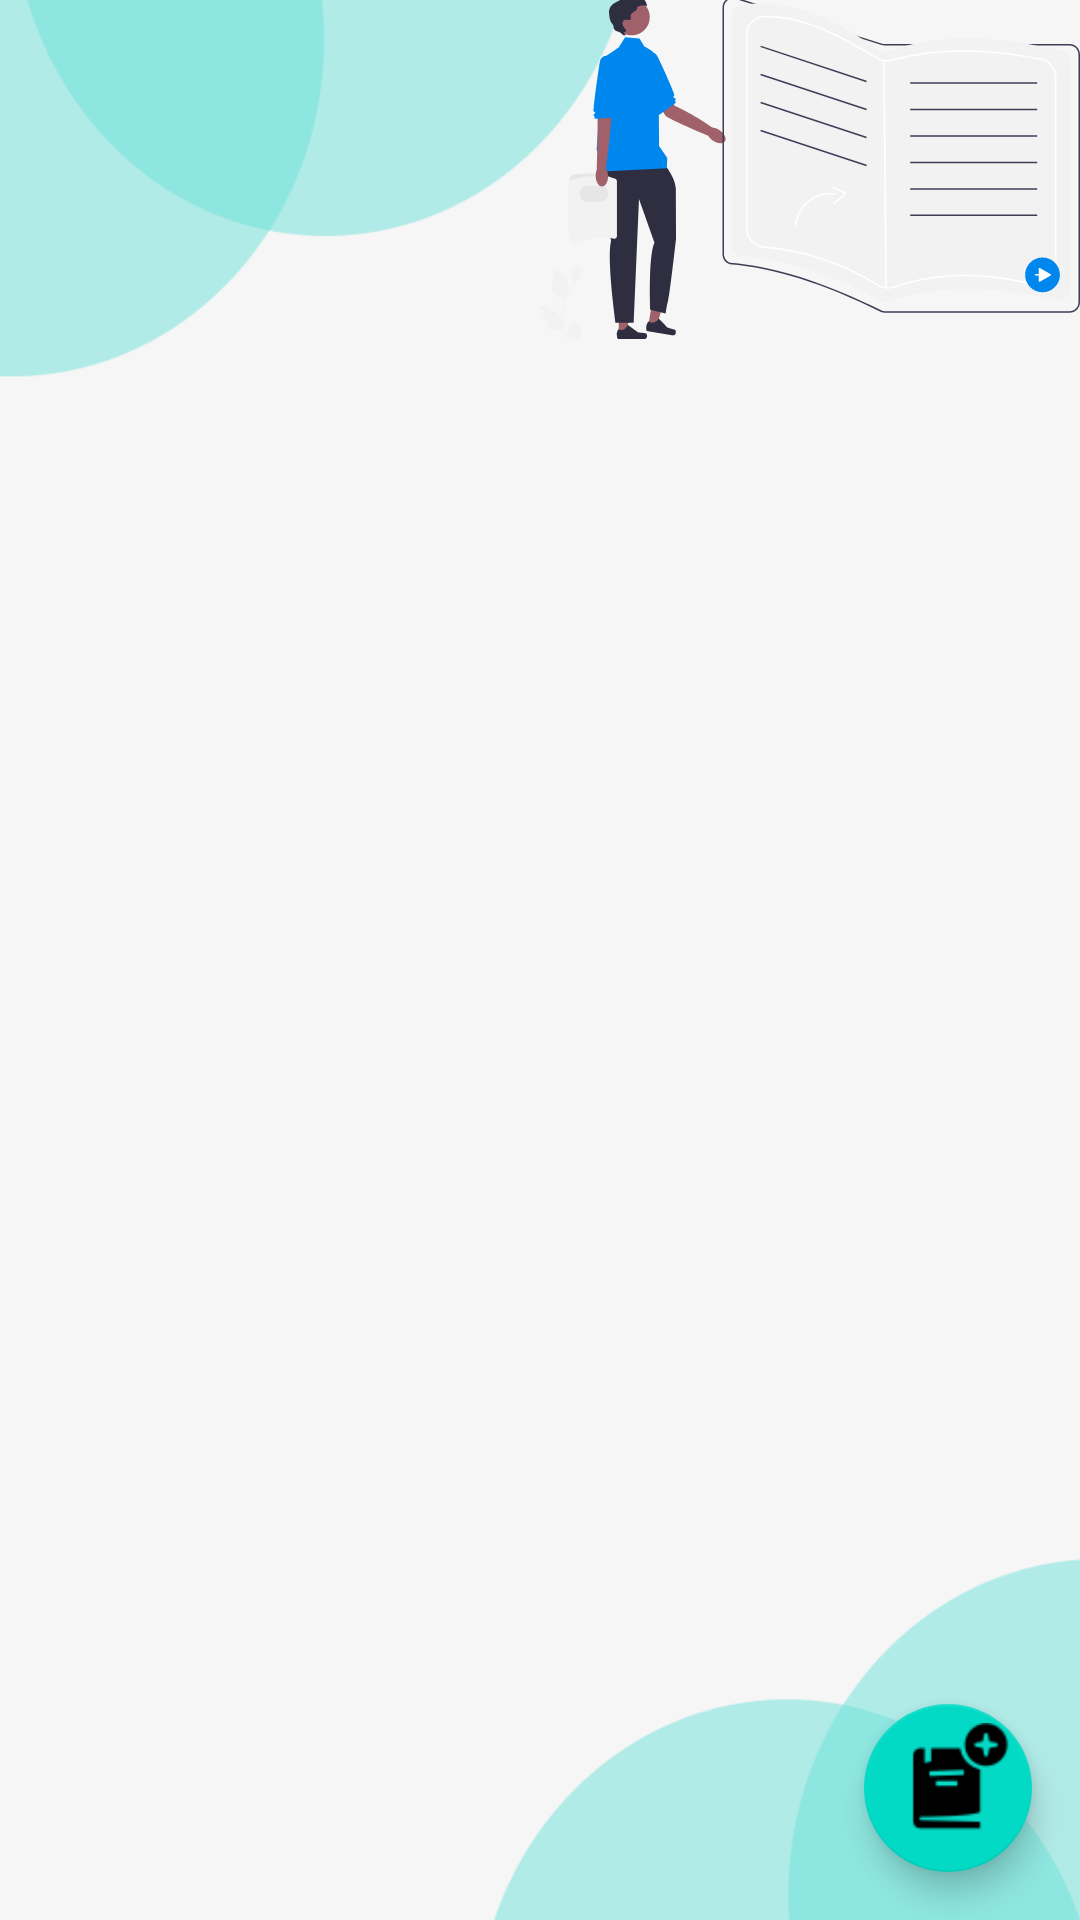

Screen size 1080w x 1920h. Icon name, then its center in pixels as point (x, y):
Add Class Room: point (948, 1788)
